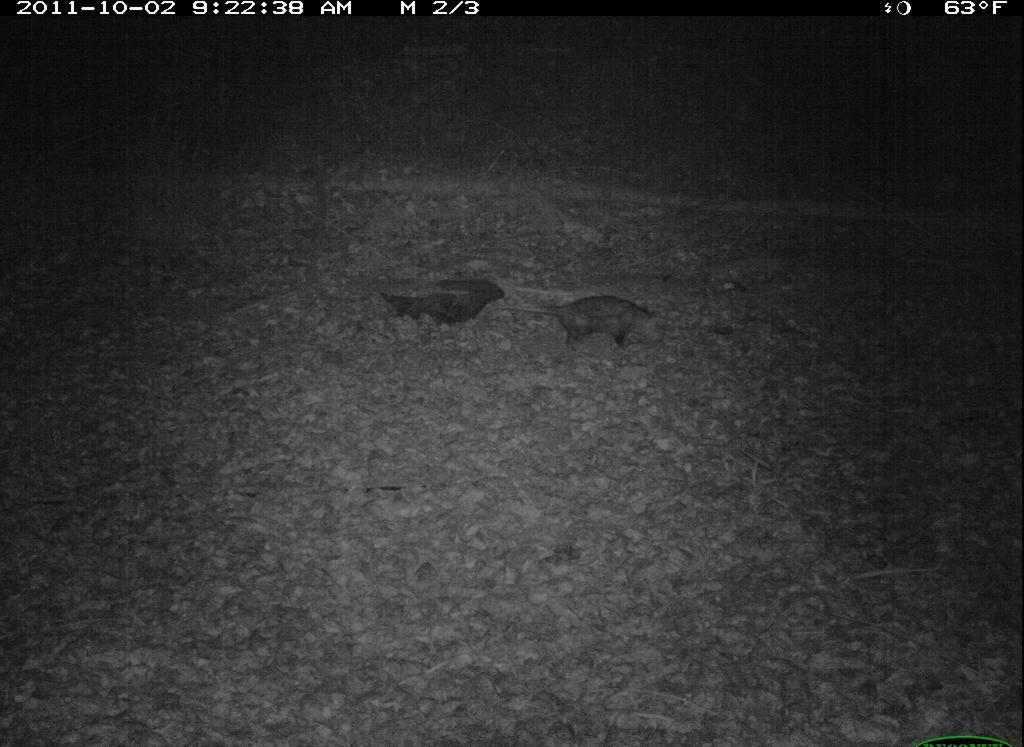opossum: (495, 283, 670, 351)
